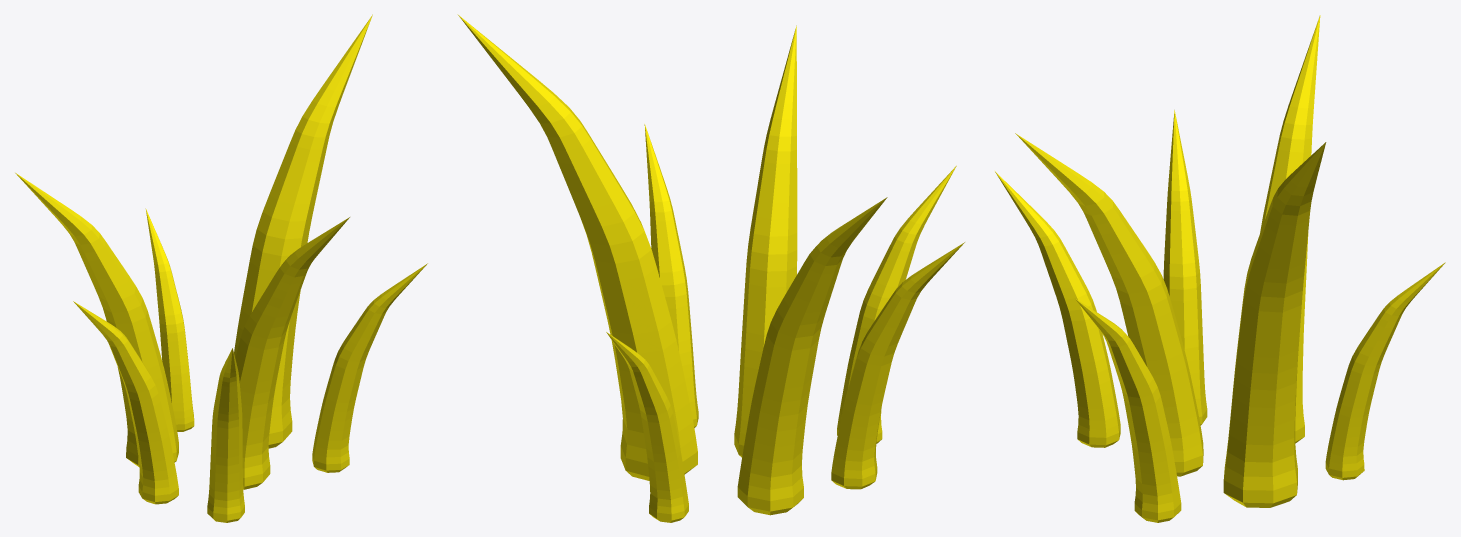
Rendered from Grass1.obj.
3 renders of one model, left to right at view 1: azimuth 30°, elevation 25°; view 2: azimuth 150°, elevation 25°; view 3: azimuth 270°, elevation 25°, orthographic. The views are drawn at different scales.
Visible parts, largest first — view 1: Grass11; view 2: Grass11; view 3: Grass11.
Boxes of the visible parts, x1,y1,x2,y2 form: Grass11: [15, 14, 427, 522]; Grass11: [457, 14, 964, 522]; Grass11: [995, 15, 1445, 522].
Size of the model in its own units: 22.09 by 21.68 by 20.12.
